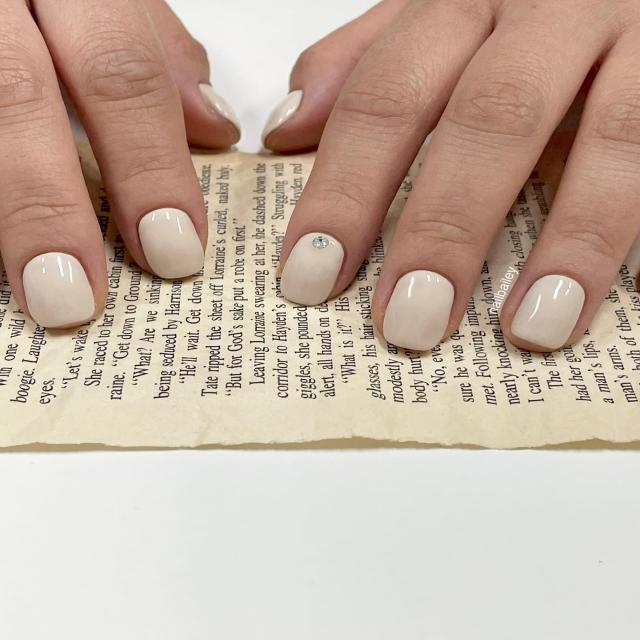Nail: (383, 270, 455, 351), (510, 275, 585, 349), (22, 252, 95, 328), (138, 208, 205, 279), (280, 232, 344, 305), (198, 84, 241, 131), (262, 90, 303, 139)
